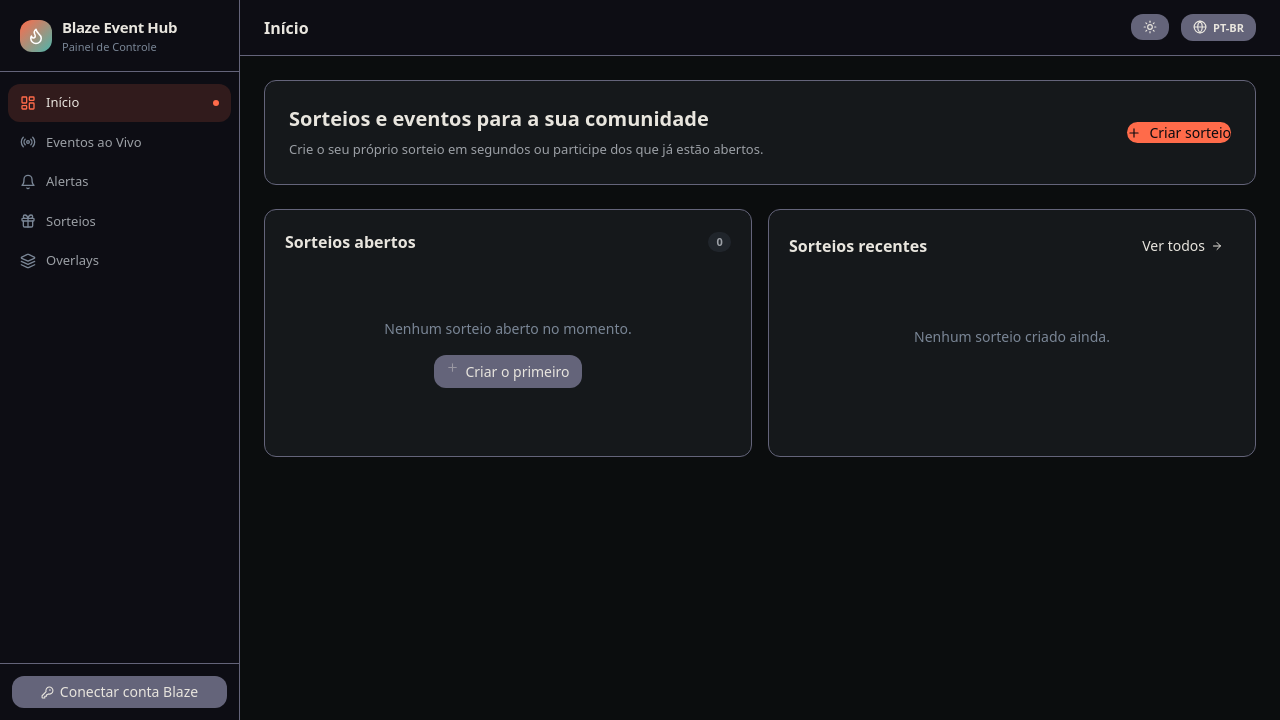
Scenario: Dashboard › cria sorteio pelo modal do hero
The image size is (1280, 720).
Click the button "Criar sorteio" at (1179, 133), box [1128,122,1231,143]
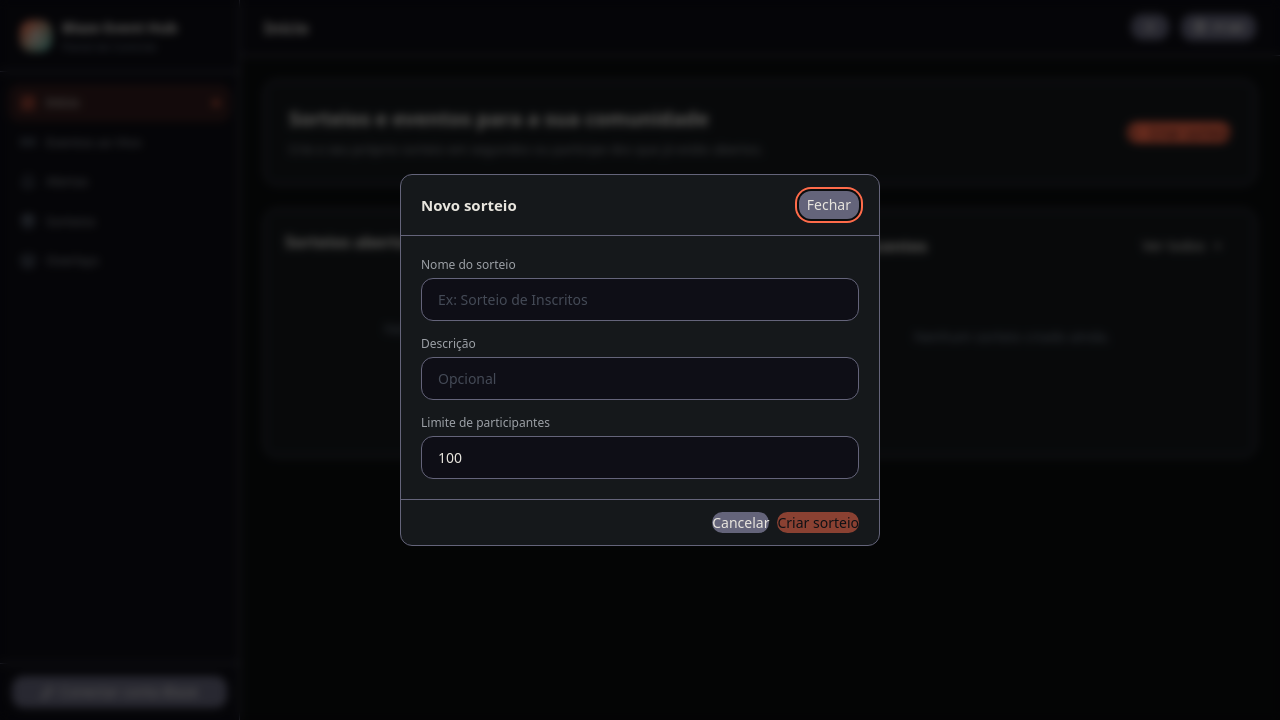
Check: the heading "Novo sorteio" is shown, box [421,194,517,216]
Check: the button "Criar sorteio" is disabled, box [778,512,859,533]
Type "Roleta" into the field labelled "Nome do sorteio" at (640, 300), box [421,278,859,321]
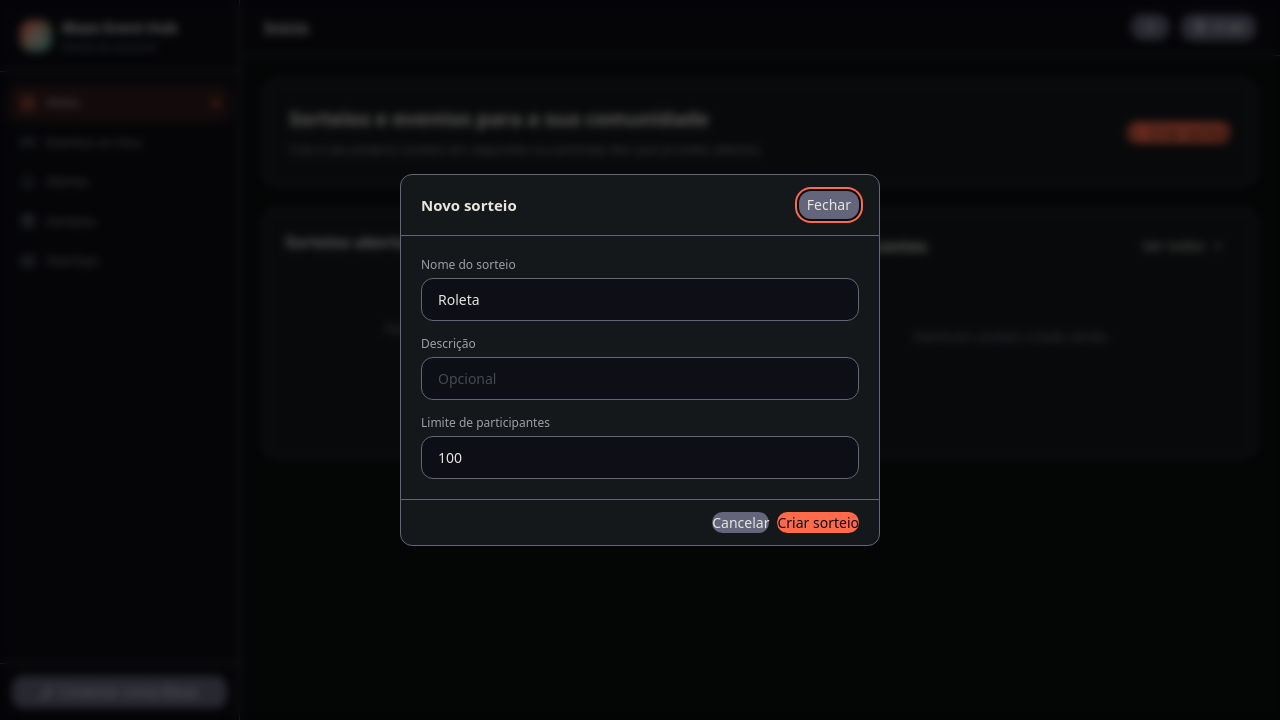
Check: the button "Criar sorteio" is enabled
Click the button "Criar sorteio" at (818, 522), box [778,512,859,533]
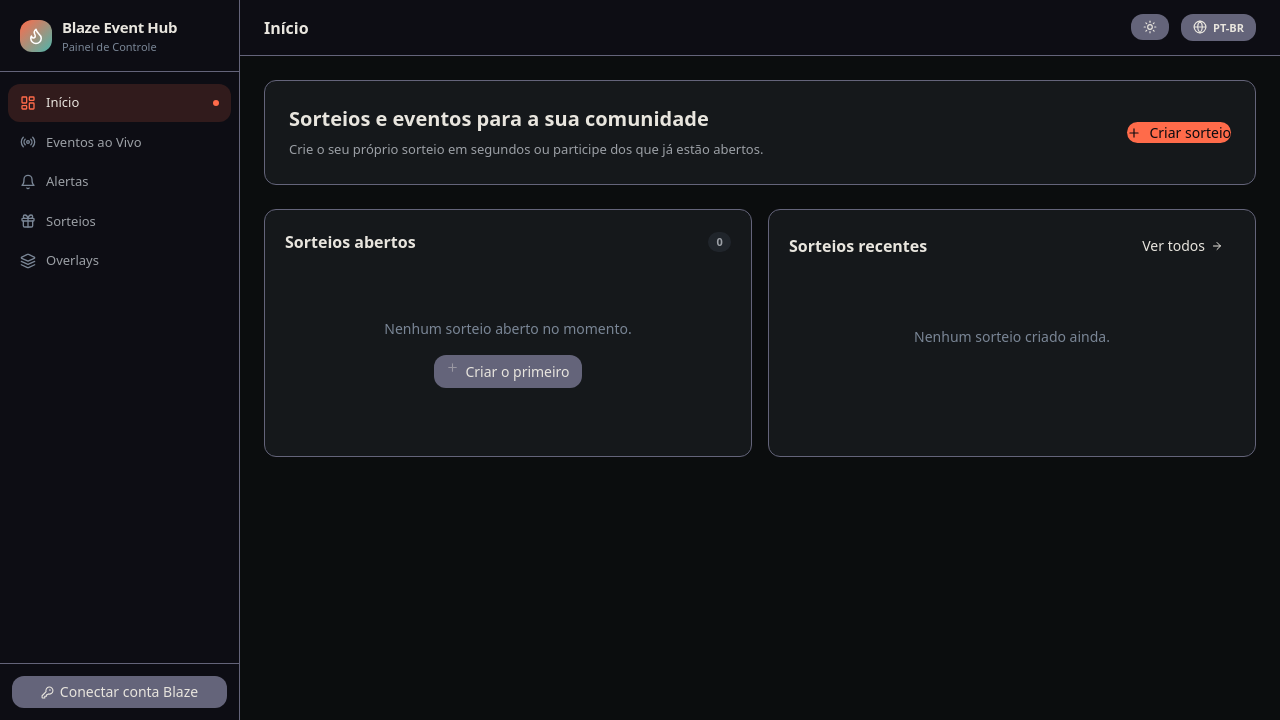
Check: the dialog is gone
